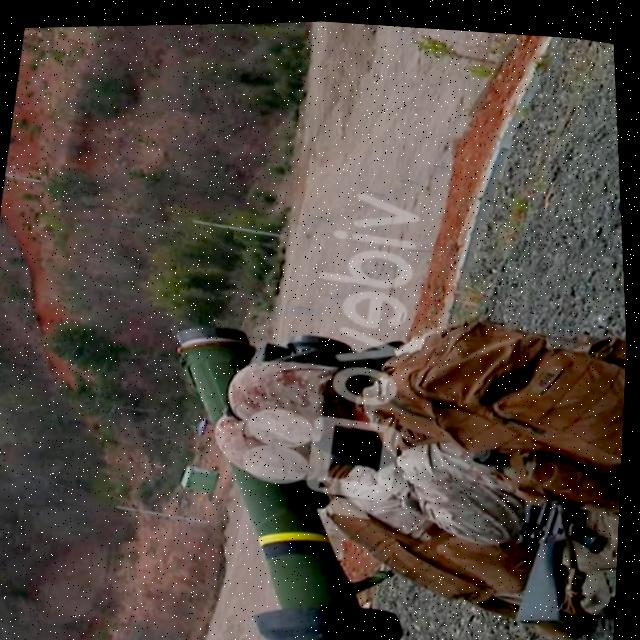rocket: (117, 293, 465, 640)
